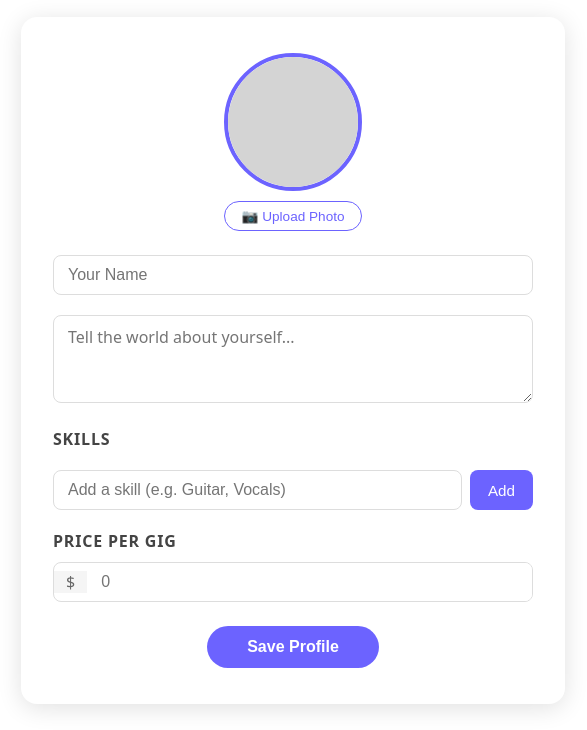
Test: displays price per gig in view mode
The image size is (587, 730).
Type "Alice" into the field with placeholder "Your Name" at (293, 275), box [53, 255, 533, 295]
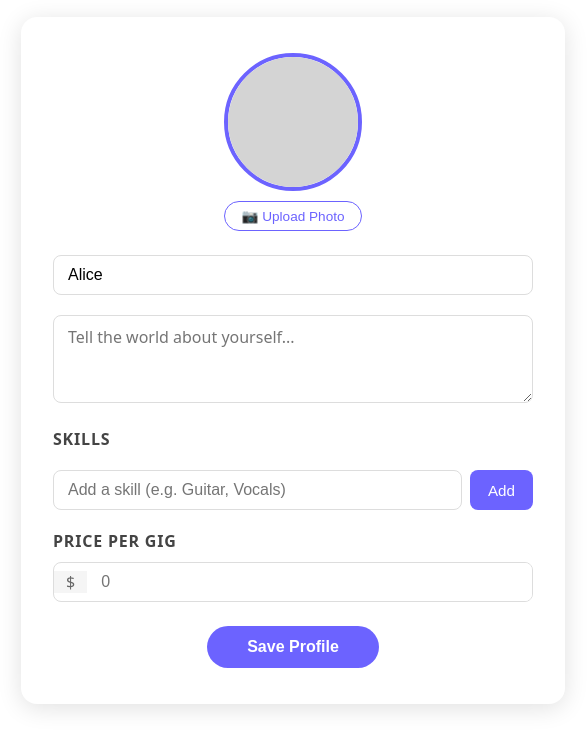
Type "200" into the number field named "Price per gig" at (310, 582), box [87, 563, 532, 601]
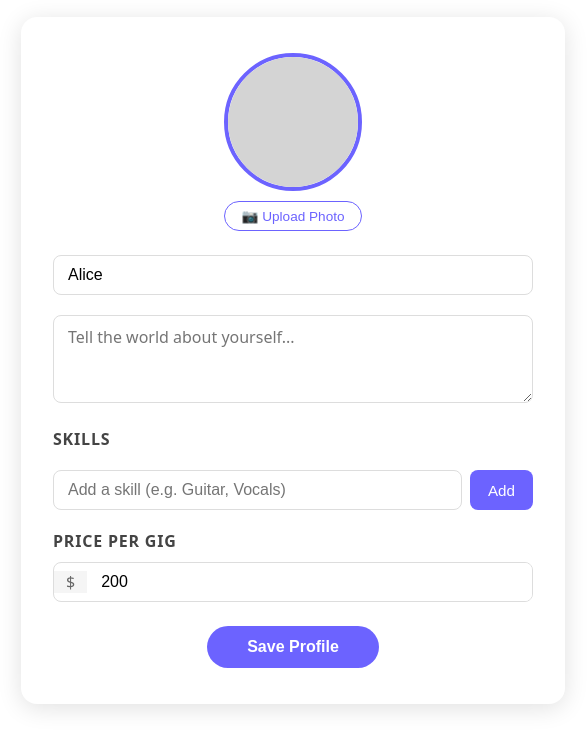
Click the button "Save Profile" at (293, 647), box [207, 626, 379, 668]
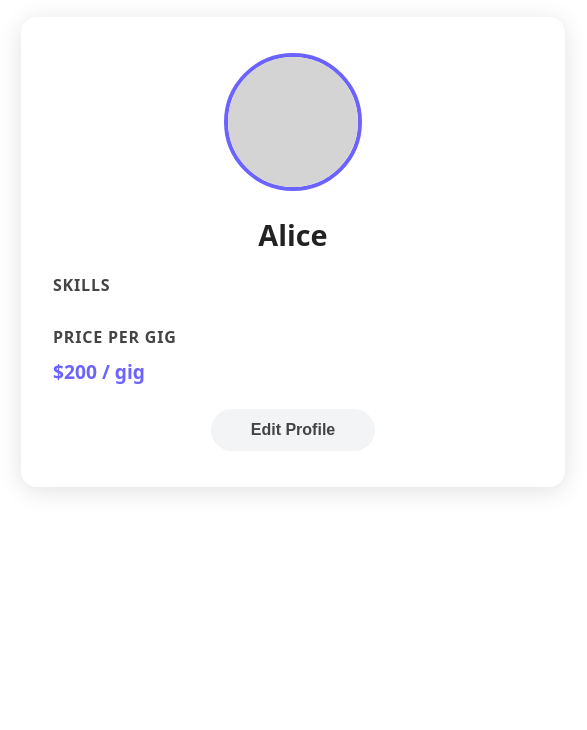
Now the text "$200 / gig" is shown, box [53, 358, 145, 385]
